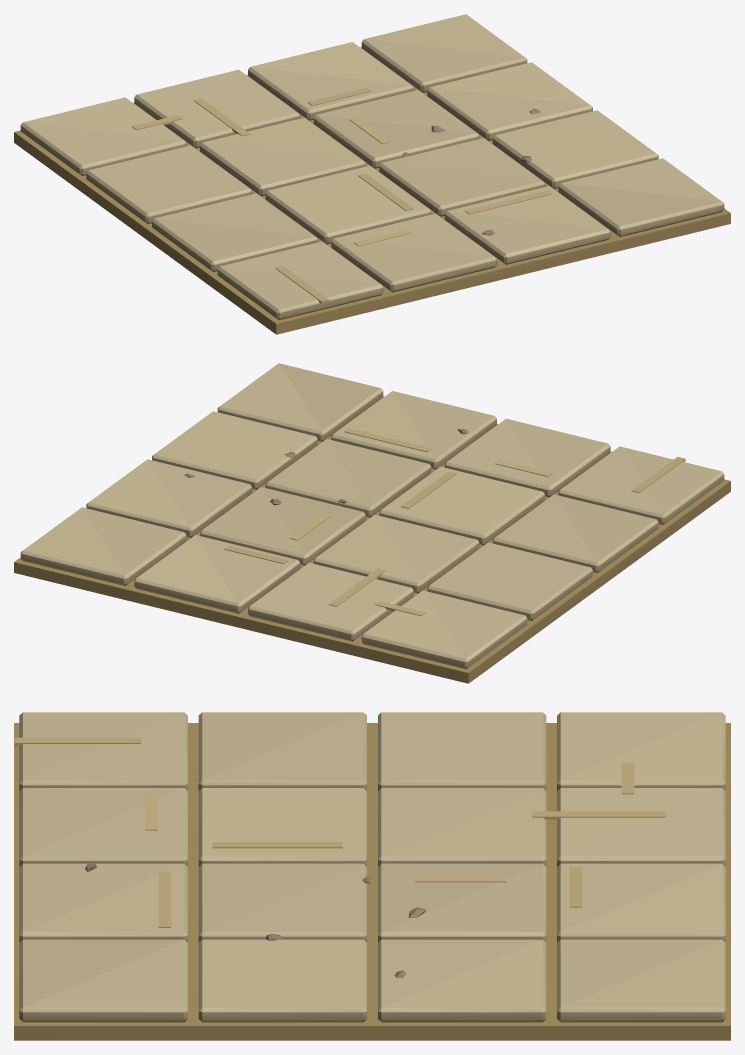
The model's file is sandstone-plaza-tile.glb.
The picture shows the model from 3 angles, top to bottom: view 1: azimuth 30°, elevation 25°; view 2: azimuth 150°, elevation 25°; view 3: azimuth 270°, elevation 25°; orthographic projection. The views are drawn at different scales.
Visible parts, largest first — view 1: sandstone_plaza_tile; view 2: sandstone_plaza_tile; view 3: sandstone_plaza_tile.
Part boxes in pixels (x1=…): sandstone_plaza_tile: x1=14, y1=14, x2=730, y2=334; sandstone_plaza_tile: x1=14, y1=363, x2=730, y2=683; sandstone_plaza_tile: x1=14, y1=712, x2=730, y2=1040.
Size of the model in its own units: 4 by 0.2088 by 4.
